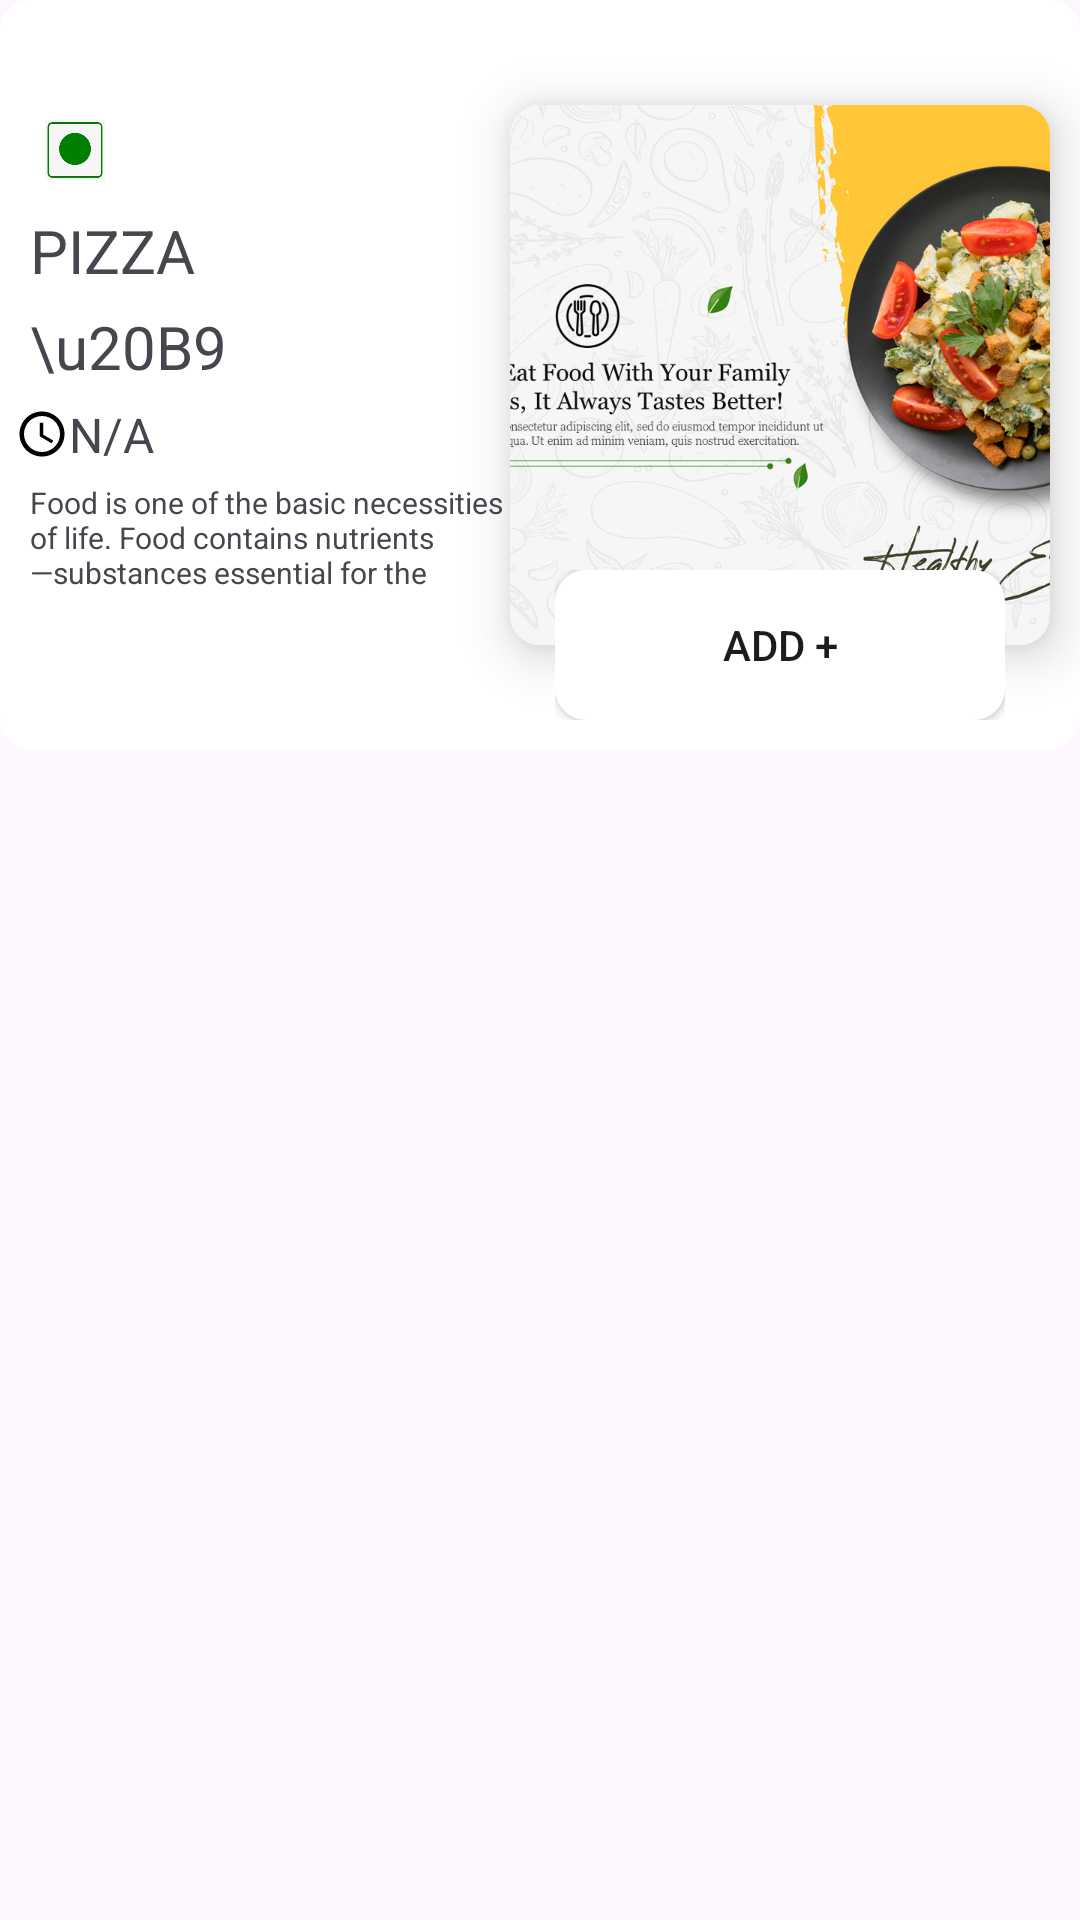

Screen size 1080x1920. Icon name, then its center in pixels as (x=x, y=y):
veg: (x=75, y=150)
